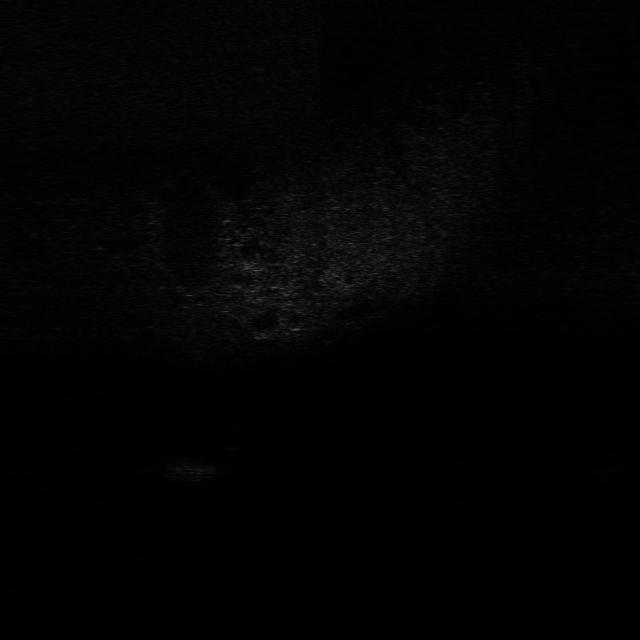ball: (213, 423, 257, 453)
circle cage: (163, 454, 224, 485)
